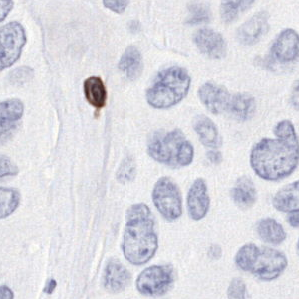Lymphocyte: (83, 75, 109, 107)
